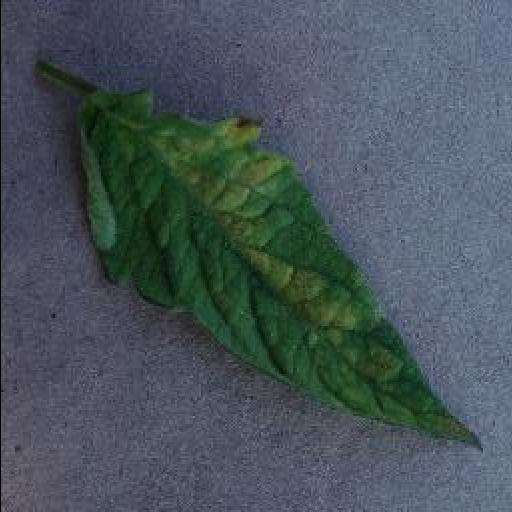disease_tomato: (70, 90, 486, 456)
